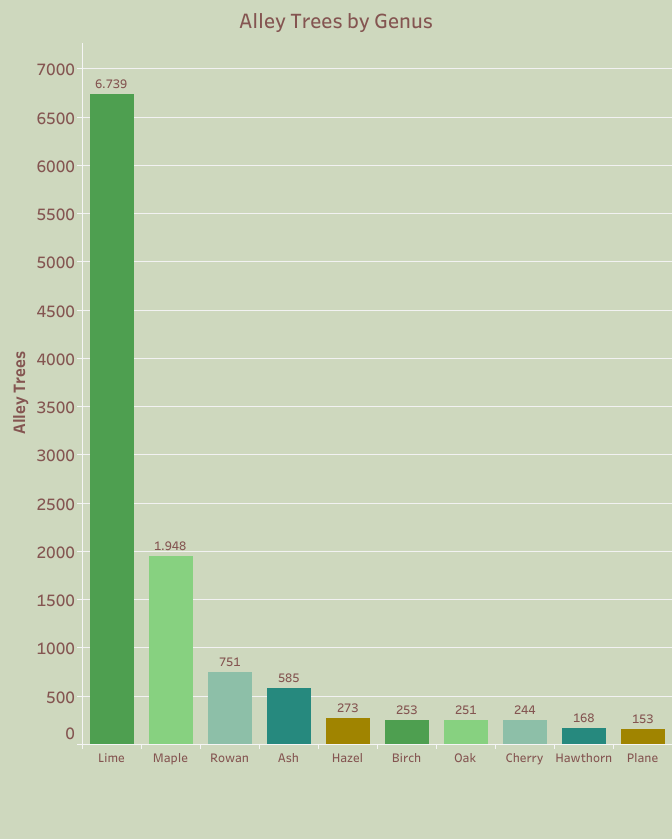

Layout of this report page (visuals, bound fields, positions):
{"tool":"tableau","page":{"name":"Dashboard 2","canvas":[650,860],"ordinal":1},"visuals":[{"type":"worksheet","title":"Blatt 1","mark":"Automatic","rows":["alley_tree (df_tableau.csv)"],"cols":["genus"],"box":[8,10.3,634,839.5]}]}

Visuals, with their boxes on the page's 650x860 design canvas (x1, y1, x2, y2). These are canvas units, not pixel positions in the 672x839 screenshot, which may show the page scaled, cropped or inside an application window:
"Blatt 1" worksheet: 8:10:642:850
